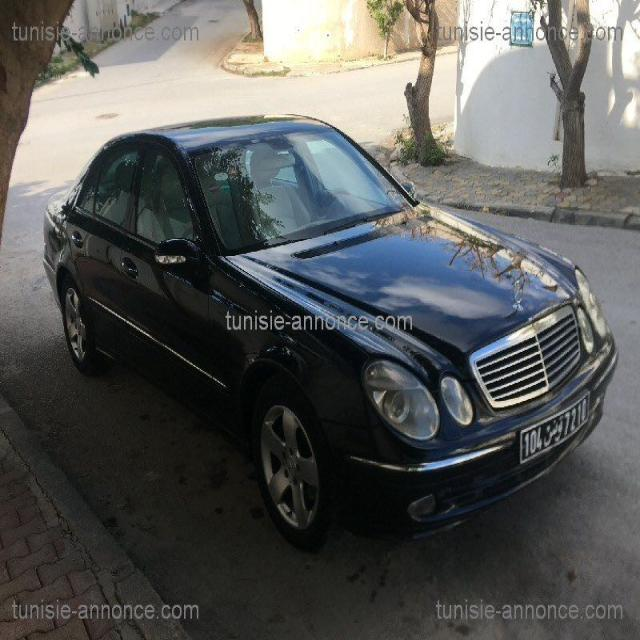LP: (517, 390, 590, 461)
